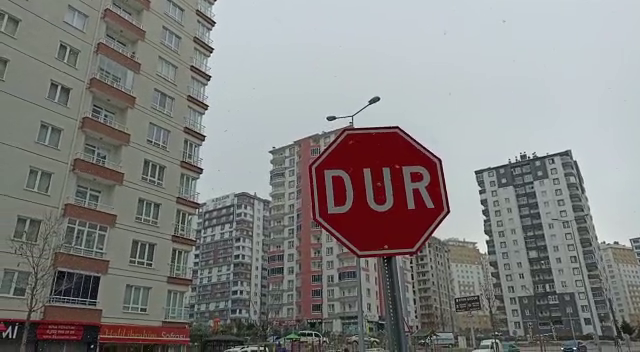stop: (305, 123, 454, 262)
